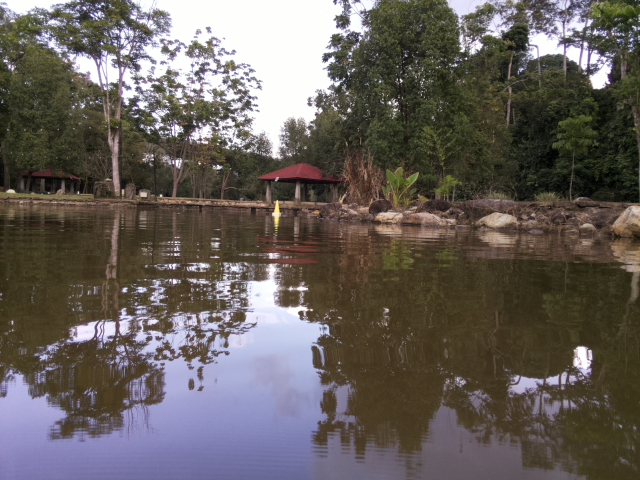checkpoint: (269, 200, 284, 218)
